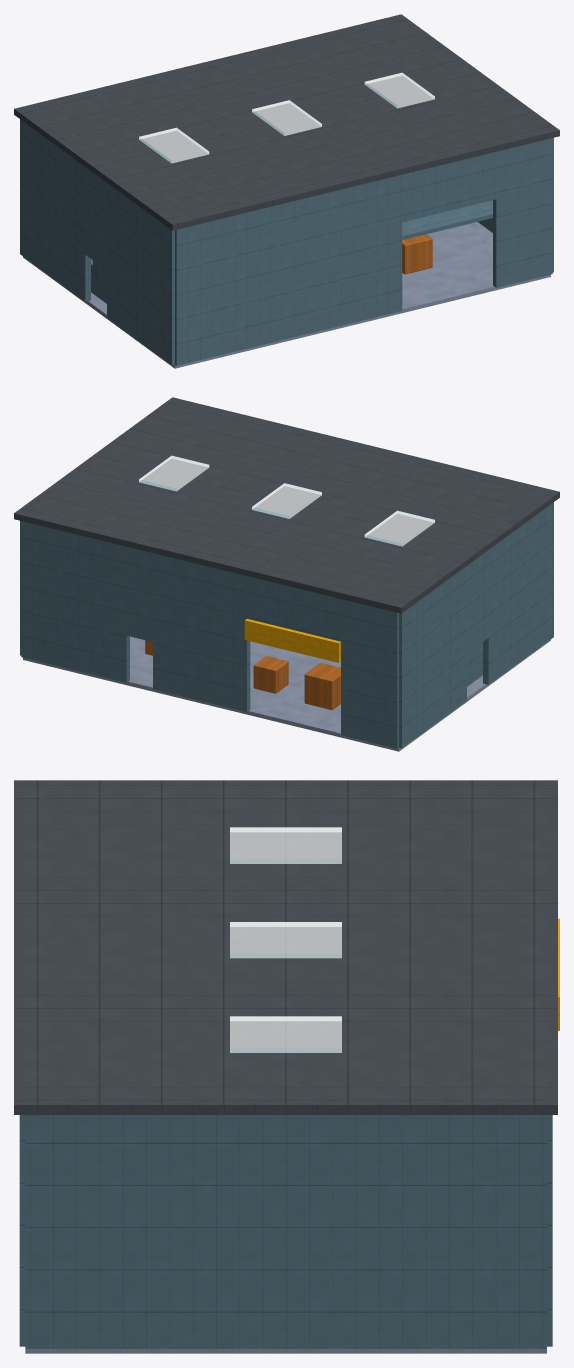
Rendered from env_warehouse.glb.
3 views of the same model, one above another, from view 1: azimuth 30°, elevation 25°; view 2: azimuth 150°, elevation 25°; view 3: azimuth 270°, elevation 25° (orthographic). The views are drawn at different scales.
Parts seen in each view (by area): view 1: env_warehouse; view 2: env_warehouse; view 3: env_warehouse.
Part boxes in pixels (left/top/right/bottom): env_warehouse: left=14, top=14, right=559, bottom=368; env_warehouse: left=14, top=397, right=559, bottom=751; env_warehouse: left=14, top=780, right=559, bottom=1353.
Size of the model in its own units: 20.6 by 7.65 by 14.65.
Materials: 6 (5 with a texture image).
